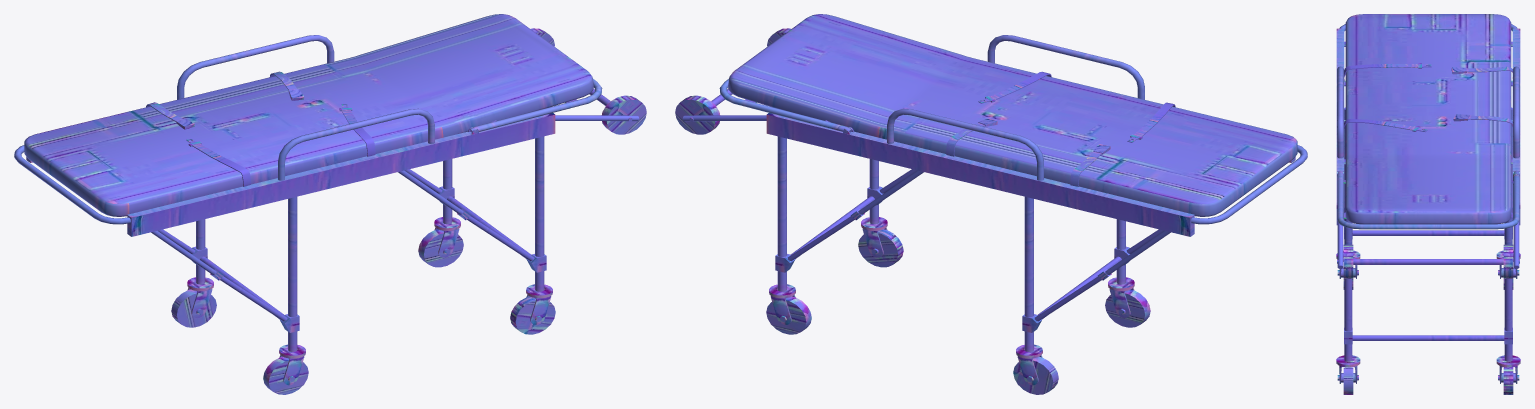
File: Stretcher.glb
The picture shows the model from 3 angles, left to right: view 1: azimuth 30°, elevation 25°; view 2: azimuth 150°, elevation 25°; view 3: azimuth 270°, elevation 25°; orthographic projection. The views are drawn at different scales.
Visible parts, largest first — view 1: Stretcher; view 2: Stretcher; view 3: Stretcher.
Part boxes in pixels (x1=…): Stretcher: x1=14, y1=14, x2=646, y2=394; Stretcher: x1=675, y1=14, x2=1307, y2=394; Stretcher: x1=1336, y1=14, x2=1520, y2=394.
Size of the model in its own units: 19.91 by 8.99 by 6.71.
1 material, 1 textured.
